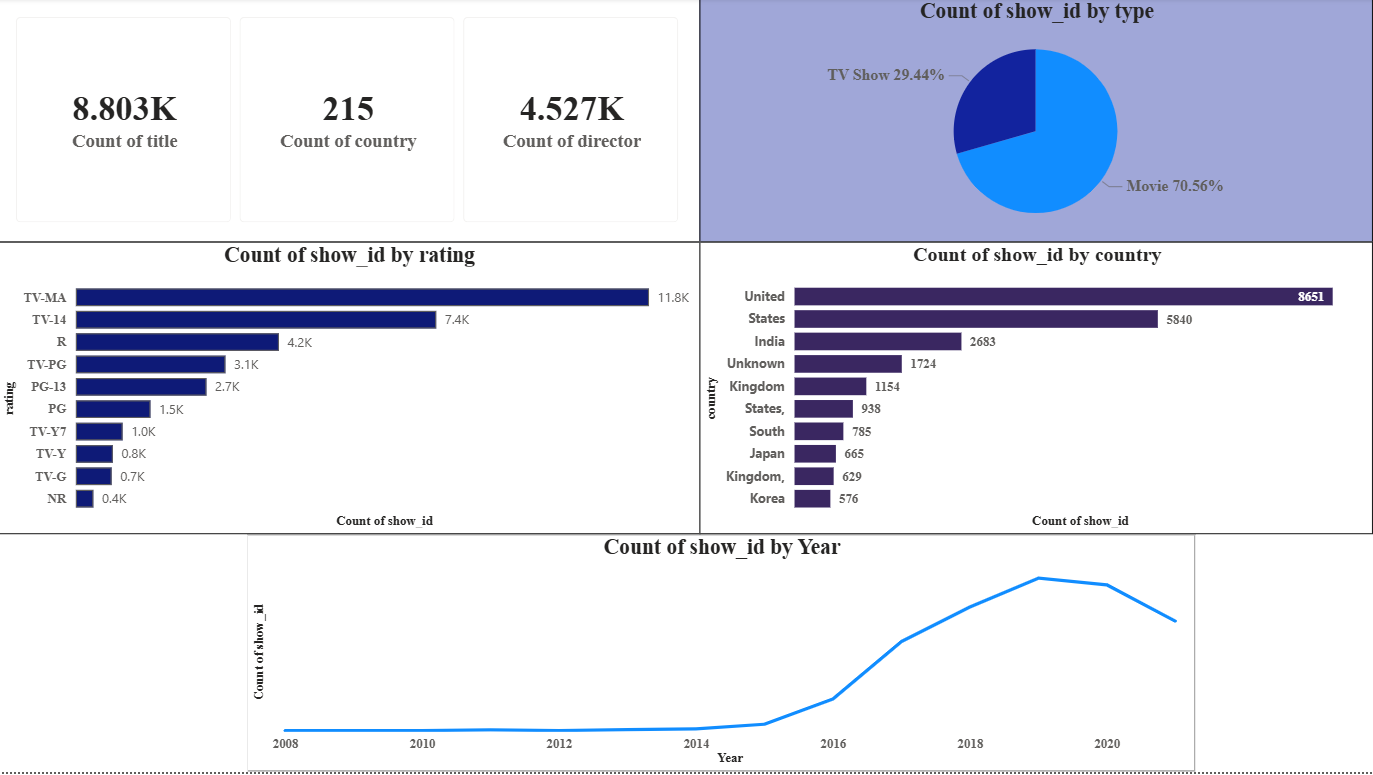

This screenshot's page, from the dashboard's own definition file:
{"tool":"powerbi","page":{"name":"Overview","canvas":[1280,720],"ordinal":0},"visuals":[{"type":"cardVisual","fields":{"Data":["Count(netflix_titles.title)","Count(netflix_titles.country)","Count(netflix_titles.director)"]},"box":[0,0,654,227],"z":0},{"type":"pieChart","fields":{"Category":["netflix_titles.type"],"Y":["CountNonNull(netflix_titles.show_id)"]},"box":[654,0,626,227],"z":1000},{"type":"lineChart","fields":{"Category":["netflix_titles.date_added.Variation.Date Hierarchy.Year"],"Y":["CountNonNull(netflix_titles.show_id)"]},"box":[233,499,882,221],"z":2000},{"type":"barChart","fields":{"Category":["netflix_titles.rating"],"Y":["CountNonNull(netflix_titles.show_id)"]},"box":[0,227,654,272],"z":3000},{"type":"barChart","fields":{"Category":["netflix_titles.country"],"Y":["CountNonNull(netflix_titles.show_id)"]},"box":[654,227,626,272],"z":4000}]}

Visuals, with their boxes in screenshot pixels (x1, y1, x2, y2), scaled from the page's 1280x720 canvas onto the 1373x775 screenshot:
cardVisual - Count(netflix_titles.title) x Count(netflix_titles.country): box(0, 0, 702, 244)
pieChart - netflix_titles.type x CountNonNull(netflix_titles.show_id): box(702, 0, 1372, 244)
lineChart - netflix_titles.date_added.Variation.Date Hierarchy.Year x CountNonNull(netflix_titles.show_id): box(250, 537, 1196, 774)
barChart - netflix_titles.rating x CountNonNull(netflix_titles.show_id): box(0, 244, 702, 537)
barChart - netflix_titles.country x CountNonNull(netflix_titles.show_id): box(702, 244, 1372, 537)
